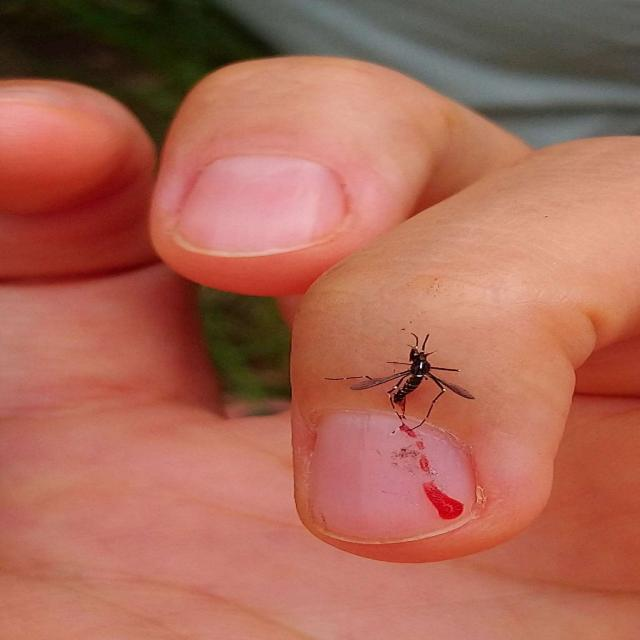albopictus: (321, 327, 478, 444)
